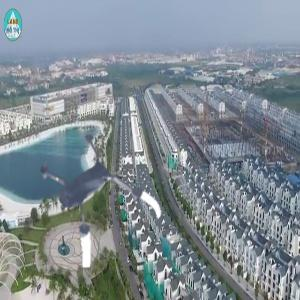drone: (15, 124, 167, 276)
